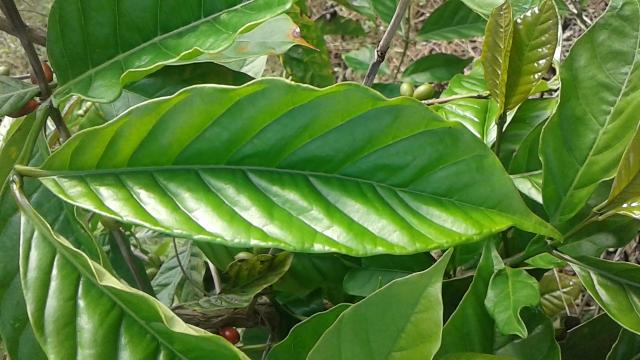healthy: (37, 76, 564, 256)
